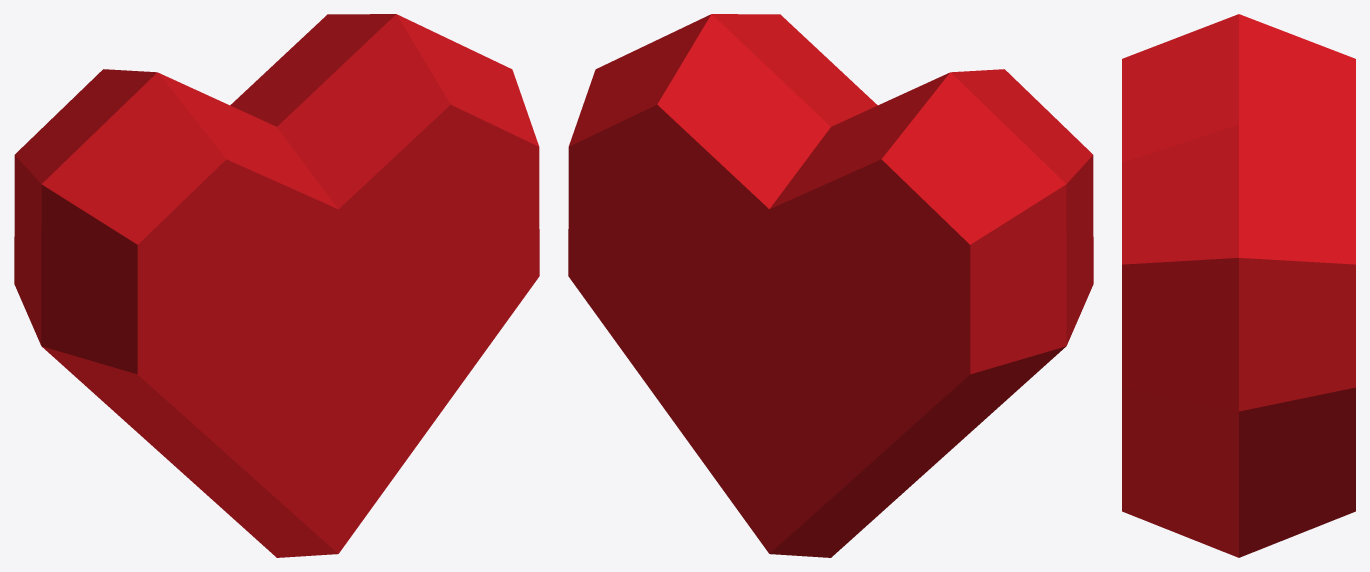
Rendered from health_pickup.fbx.
3 renders of one model, left to right at view 1: azimuth 30°, elevation 25°; view 2: azimuth 150°, elevation 25°; view 3: azimuth 270°, elevation 25°, orthographic. The views are drawn at different scales.
Visible parts, largest first — view 1: heart; view 2: heart; view 3: heart.
Boxes of the visible parts, bbox=[...] form: heart: bbox=[14, 14, 539, 557]; heart: bbox=[568, 14, 1093, 557]; heart: bbox=[1122, 14, 1355, 557].
Size of the model in its own units: 41.54 by 43.37 by 18.81.
